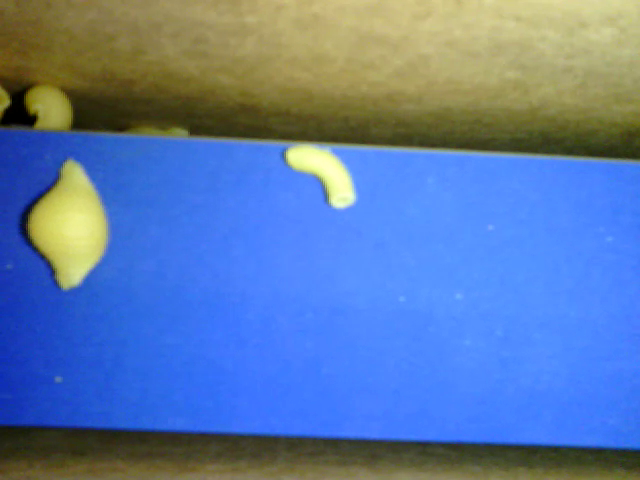elbow: (282, 143, 356, 209)
shell: (20, 157, 110, 291), (24, 85, 73, 134)
